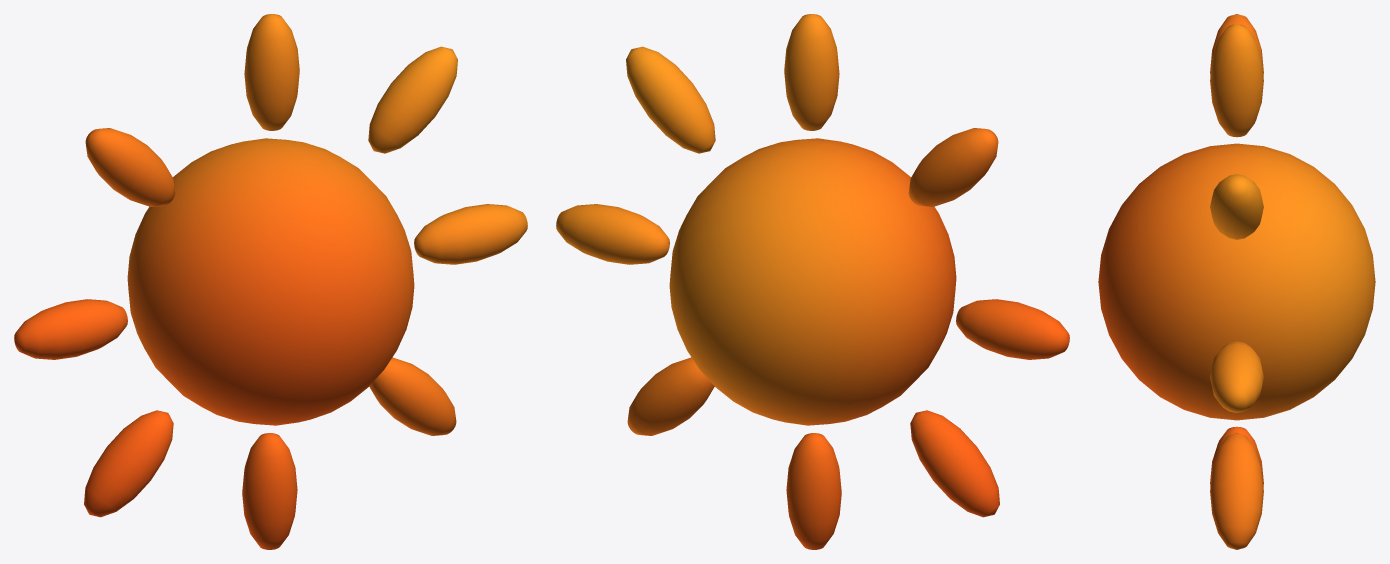
Rendered from 0_Cerah.fbx.
The picture shows the model from 3 angles, left to right: view 1: azimuth 30°, elevation 25°; view 2: azimuth 150°, elevation 25°; view 3: azimuth 270°, elevation 25°; orthographic projection. The views are drawn at different scales.
Visible parts, largest first — view 1: Cerah; view 2: Cerah; view 3: Cerah.
Part boxes in pixels (<box>): Cerah: <box>14,14,527,549</box>; Cerah: <box>556,14,1069,549</box>; Cerah: <box>1098,14,1375,549</box>.
Size of the model in its own units: 411 by 411 by 200.
